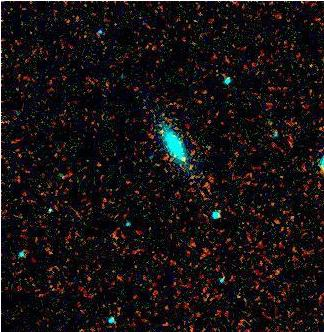star: (170, 144, 200, 174)
